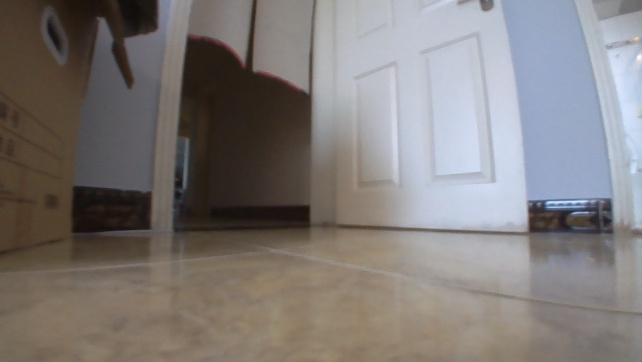door_anno: (306, 0, 534, 237)
